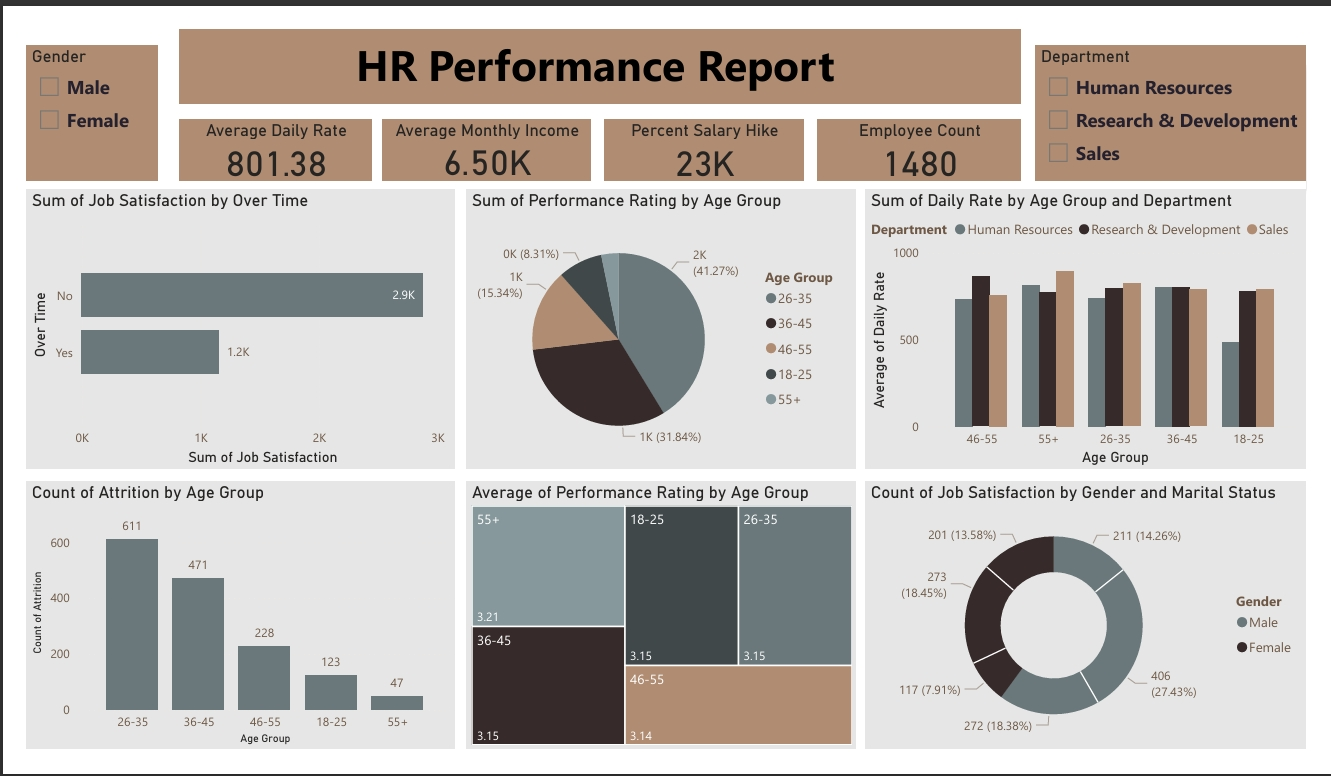

What the dashboard file says about the page in this screenshot:
{"tool":"powerbi","page":{"name":"HR Dashboard","canvas":[1280,720],"ordinal":0},"visuals":[{"type":"clusteredColumnChart","fields":{"Category":["HR_Analytics.AgeGroup"],"Y":["CountNonNull(HR_Analytics.Attrition)"]},"box":[0,452.4,429.2,267.8],"z":0},{"type":"barChart","fields":{"Category":["HR_Analytics.Over Time"],"Y":["Sum(HR_Analytics.Job Satisfaction)"]},"box":[0,160.2,429.2,280],"z":1000},{"type":"pieChart","fields":{"Y":["Sum(HR_Analytics.PerformanceRating)"],"Category":["HR_Analytics.AgeGroup"]},"box":[440.2,160.2,390.1,280],"z":2000},{"type":"card","title":"Average Daily Rate","fields":{"Values":["Avg(HR_Analytics.DailyRate)"]},"box":[152.9,90.5,193.2,61.1],"z":3000},{"type":"card","title":"Percent Salary Hike","fields":{"Values":["Sum(HR_Analytics.Percent Salary Hike)"]},"box":[578.4,90.5,199.3,61.1],"z":4000},{"type":"card","title":"Average Monthly Income","fields":{"Values":["Avg(HR_Analytics.MonthlyIncome)"]},"box":[355.8,90.5,209.1,61.1],"z":5000},{"type":"card","title":"Employee Count","fields":{"Values":["CountNonNull(HR_Analytics.EmployeeCount)"]},"box":[791.2,90.5,204.2,61.1],"z":6000},{"type":"treemap","fields":{"Group":["HR_Analytics.AgeGroup"],"Values":["Avg(HR_Analytics.PerformanceRating)"]},"box":[440.2,452.4,390.1,267.8],"z":7000},{"type":"donutChart","fields":{"Category":["HR_Analytics.Gender"],"Y":["CountNonNull(HR_Analytics.JobSatisfaction)"],"Series":["HR_Analytics.Marital Status"]},"box":[838.9,452.4,441.4,267.8],"z":8000},{"type":"clusteredColumnChart","title":"Sum of Daily Rate by Age Group and Department","fields":{"Category":["HR_Analytics.AgeGroup"],"Y":["Avg(HR_Analytics.DailyRate)"],"Series":["HR_Analytics.Department"]},"box":[838.9,160.2,441.4,280],"z":9000},{"type":"slicer","title":"Gender","fields":{"Values":["HR_Analytics.Gender"]},"box":[0,15.9,132.1,135.7],"z":10000},{"type":"slicer","title":"Department","fields":{"Values":["HR_Analytics.Department"]},"box":[1008.8,15.9,271.5,135.7],"z":11000},{"type":"textbox","box":[152.9,0,842.5,74.6],"z":12000}]}

Visuals, with their boxes on the page's 1280x720 design canvas (x1, y1, x2, y2). These are canvas units, not pixel positions in the 1331x776 screenshot, which may show the page scaled, cropped or inside an application window:
clusteredColumnChart - HR_Analytics.AgeGroup x CountNonNull(HR_Analytics.Attrition): {"x1": 0, "y1": 452, "x2": 429, "y2": 720}
barChart - HR_Analytics.Over Time x Sum(HR_Analytics.Job Satisfaction): {"x1": 0, "y1": 160, "x2": 429, "y2": 440}
pieChart - Sum(HR_Analytics.PerformanceRating) x HR_Analytics.AgeGroup: {"x1": 440, "y1": 160, "x2": 830, "y2": 440}
"Average Daily Rate" card: {"x1": 153, "y1": 90, "x2": 346, "y2": 152}
"Percent Salary Hike" card: {"x1": 578, "y1": 90, "x2": 778, "y2": 152}
"Average Monthly Income" card: {"x1": 356, "y1": 90, "x2": 565, "y2": 152}
"Employee Count" card: {"x1": 791, "y1": 90, "x2": 995, "y2": 152}
treemap - HR_Analytics.AgeGroup x Avg(HR_Analytics.PerformanceRating): {"x1": 440, "y1": 452, "x2": 830, "y2": 720}
donutChart - HR_Analytics.Gender x CountNonNull(HR_Analytics.JobSatisfaction): {"x1": 839, "y1": 452, "x2": 1280, "y2": 720}
"Sum of Daily Rate by Age Group and Department" clusteredColumnChart: {"x1": 839, "y1": 160, "x2": 1280, "y2": 440}
"Gender" slicer: {"x1": 0, "y1": 16, "x2": 132, "y2": 152}
"Department" slicer: {"x1": 1009, "y1": 16, "x2": 1280, "y2": 152}
textbox: {"x1": 153, "y1": 0, "x2": 995, "y2": 75}
